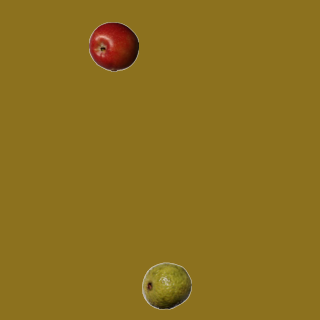Apple Braeburn: (88, 21, 138, 71)
Guava: (141, 260, 191, 310)
